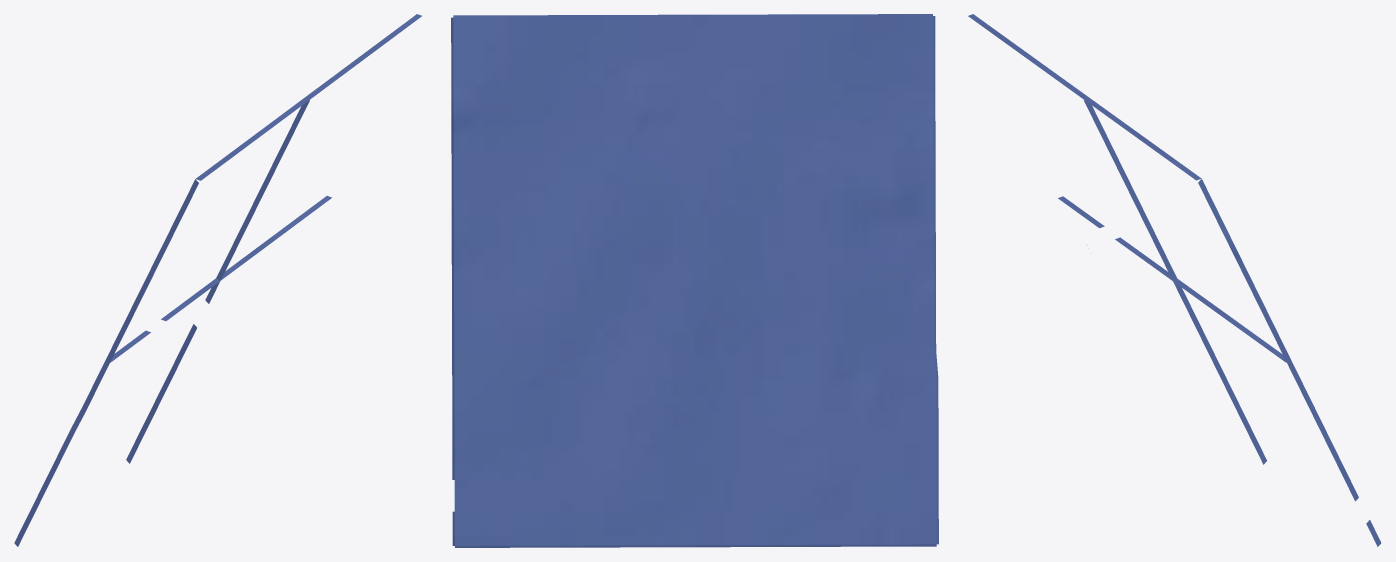
3 renders of one model, left to right at view 1: azimuth 30°, elevation 25°; view 2: azimuth 150°, elevation 25°; view 3: azimuth 270°, elevation 25°, orthographic. The views are drawn at different scales.
Bounding box in the file's own units: 39504 × 35921 × 32637.
1 material, 1 textured.
